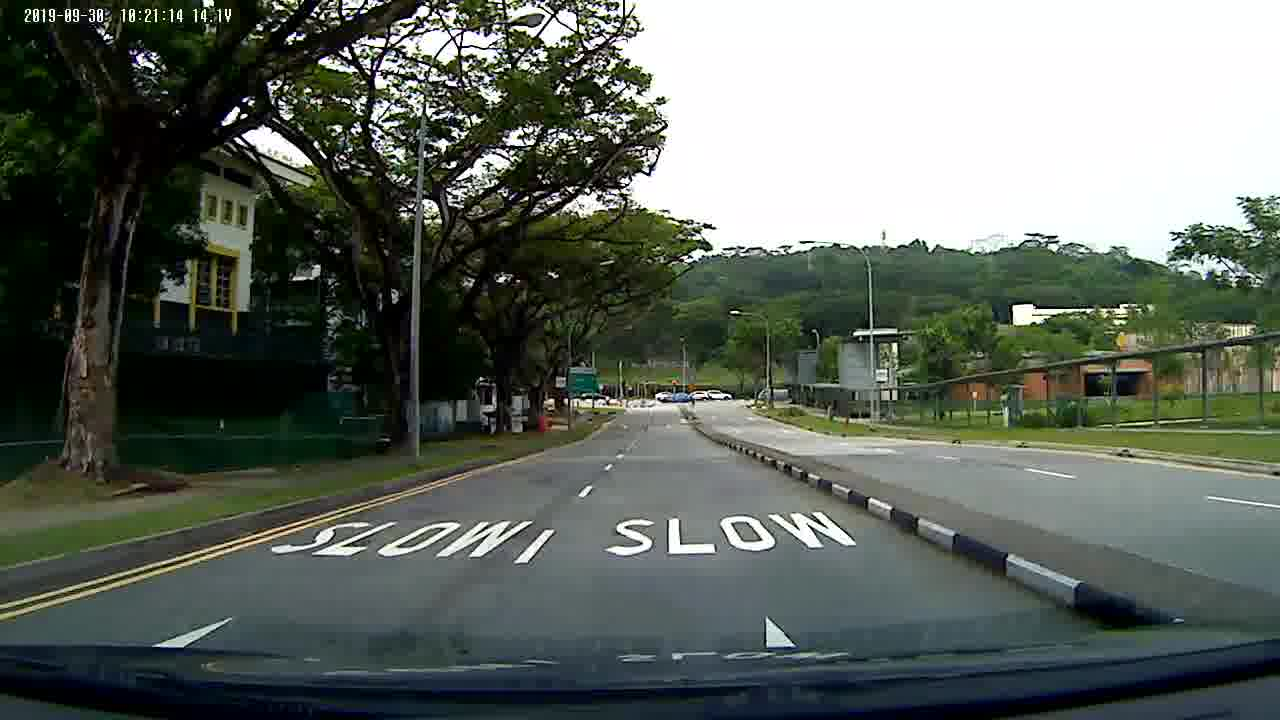car: (709, 390, 731, 404)
